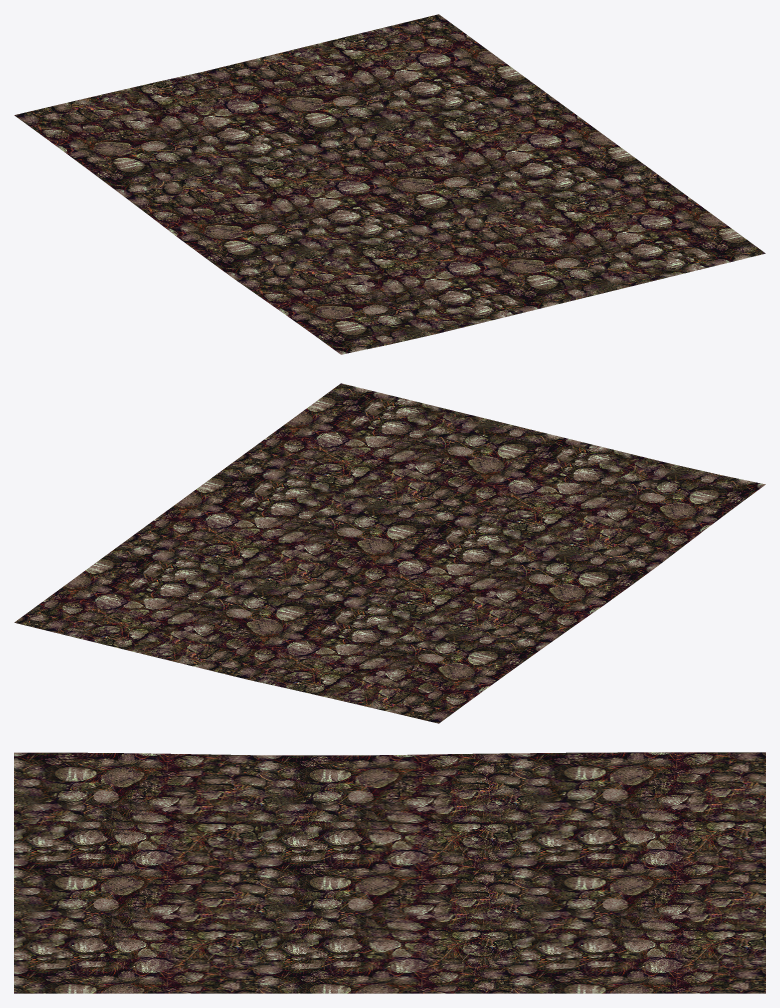
3 renders of one model, top to bottom at view 1: azimuth 30°, elevation 25°; view 2: azimuth 150°, elevation 25°; view 3: azimuth 270°, elevation 25°, orthographic. The views are drawn at different scales.
Visible parts, largest first — view 1: r2; view 2: r2; view 3: r2.
Part boxes in pixels (left/top/right/bottom): r2: left=14, top=14, right=765, bottom=354; r2: left=14, top=383, right=765, bottom=723; r2: left=14, top=752, right=765, bottom=993.
Bounding box in the file's own units: 2325 × 14.4 × 3100.
